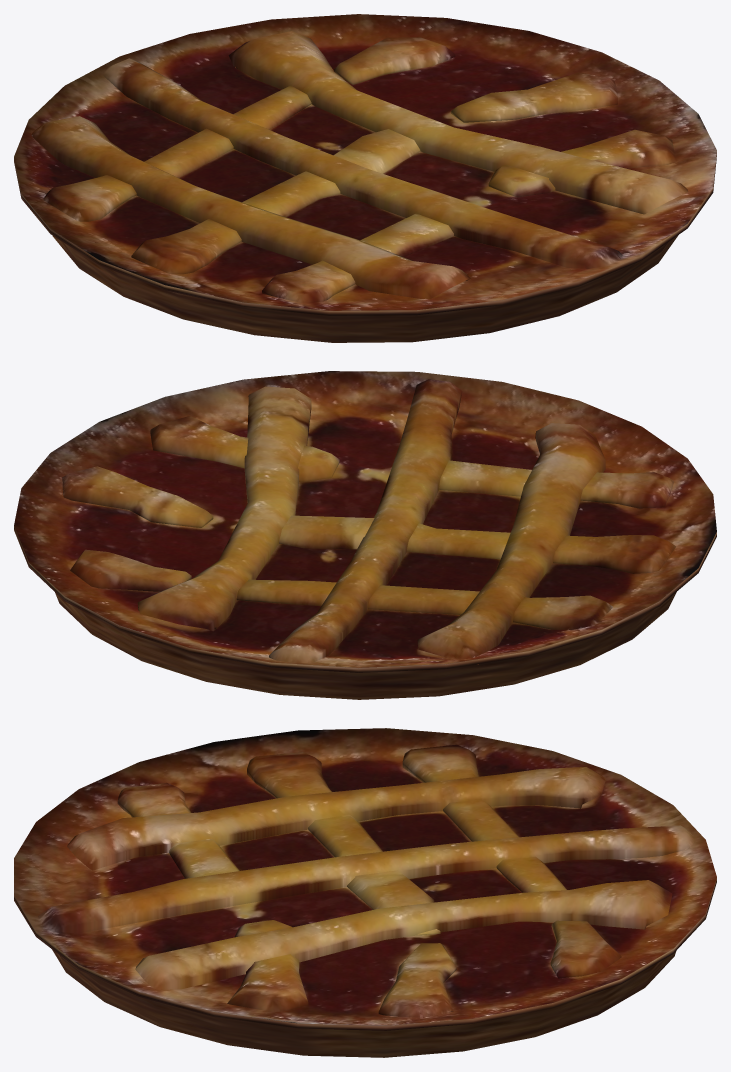
File: PastaFrola.glb
3 renders of one model, top to bottom at view 1: azimuth 30°, elevation 25°; view 2: azimuth 150°, elevation 25°; view 3: azimuth 270°, elevation 25°, orthographic.
Parts seen in each view (by area): view 1: PastaFrola; view 2: PastaFrola; view 3: PastaFrola.
Boxes of the visible parts, <box> form: PastaFrola: <box>14,14,716,342</box>; PastaFrola: <box>14,371,716,699</box>; PastaFrola: <box>14,728,716,1057</box>.
Size of the model in its own units: 1.96 by 0.1776 by 1.95.
Materials: 1 (1 with a texture image).
